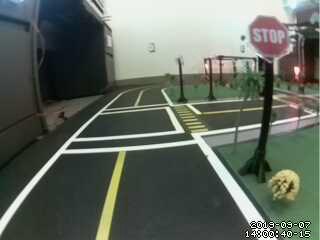Stop_Sign: (247, 10, 290, 64)
